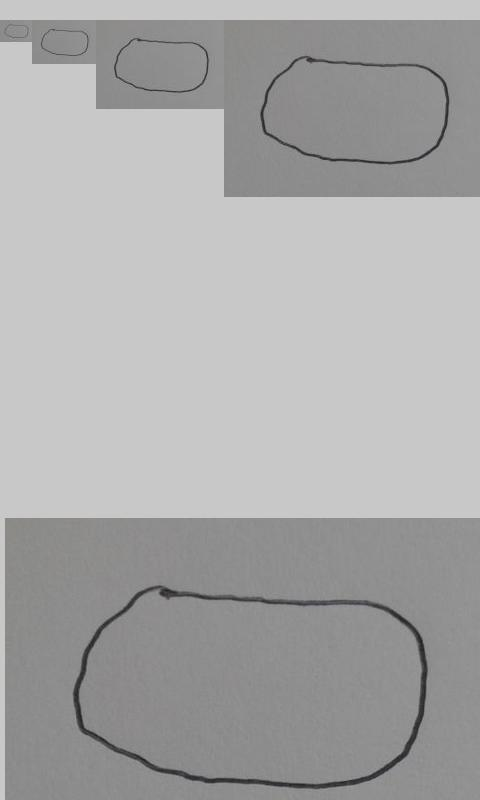chip: (74, 582, 431, 791), (259, 55, 450, 166), (114, 37, 209, 94), (40, 28, 89, 57), (4, 23, 29, 39)
